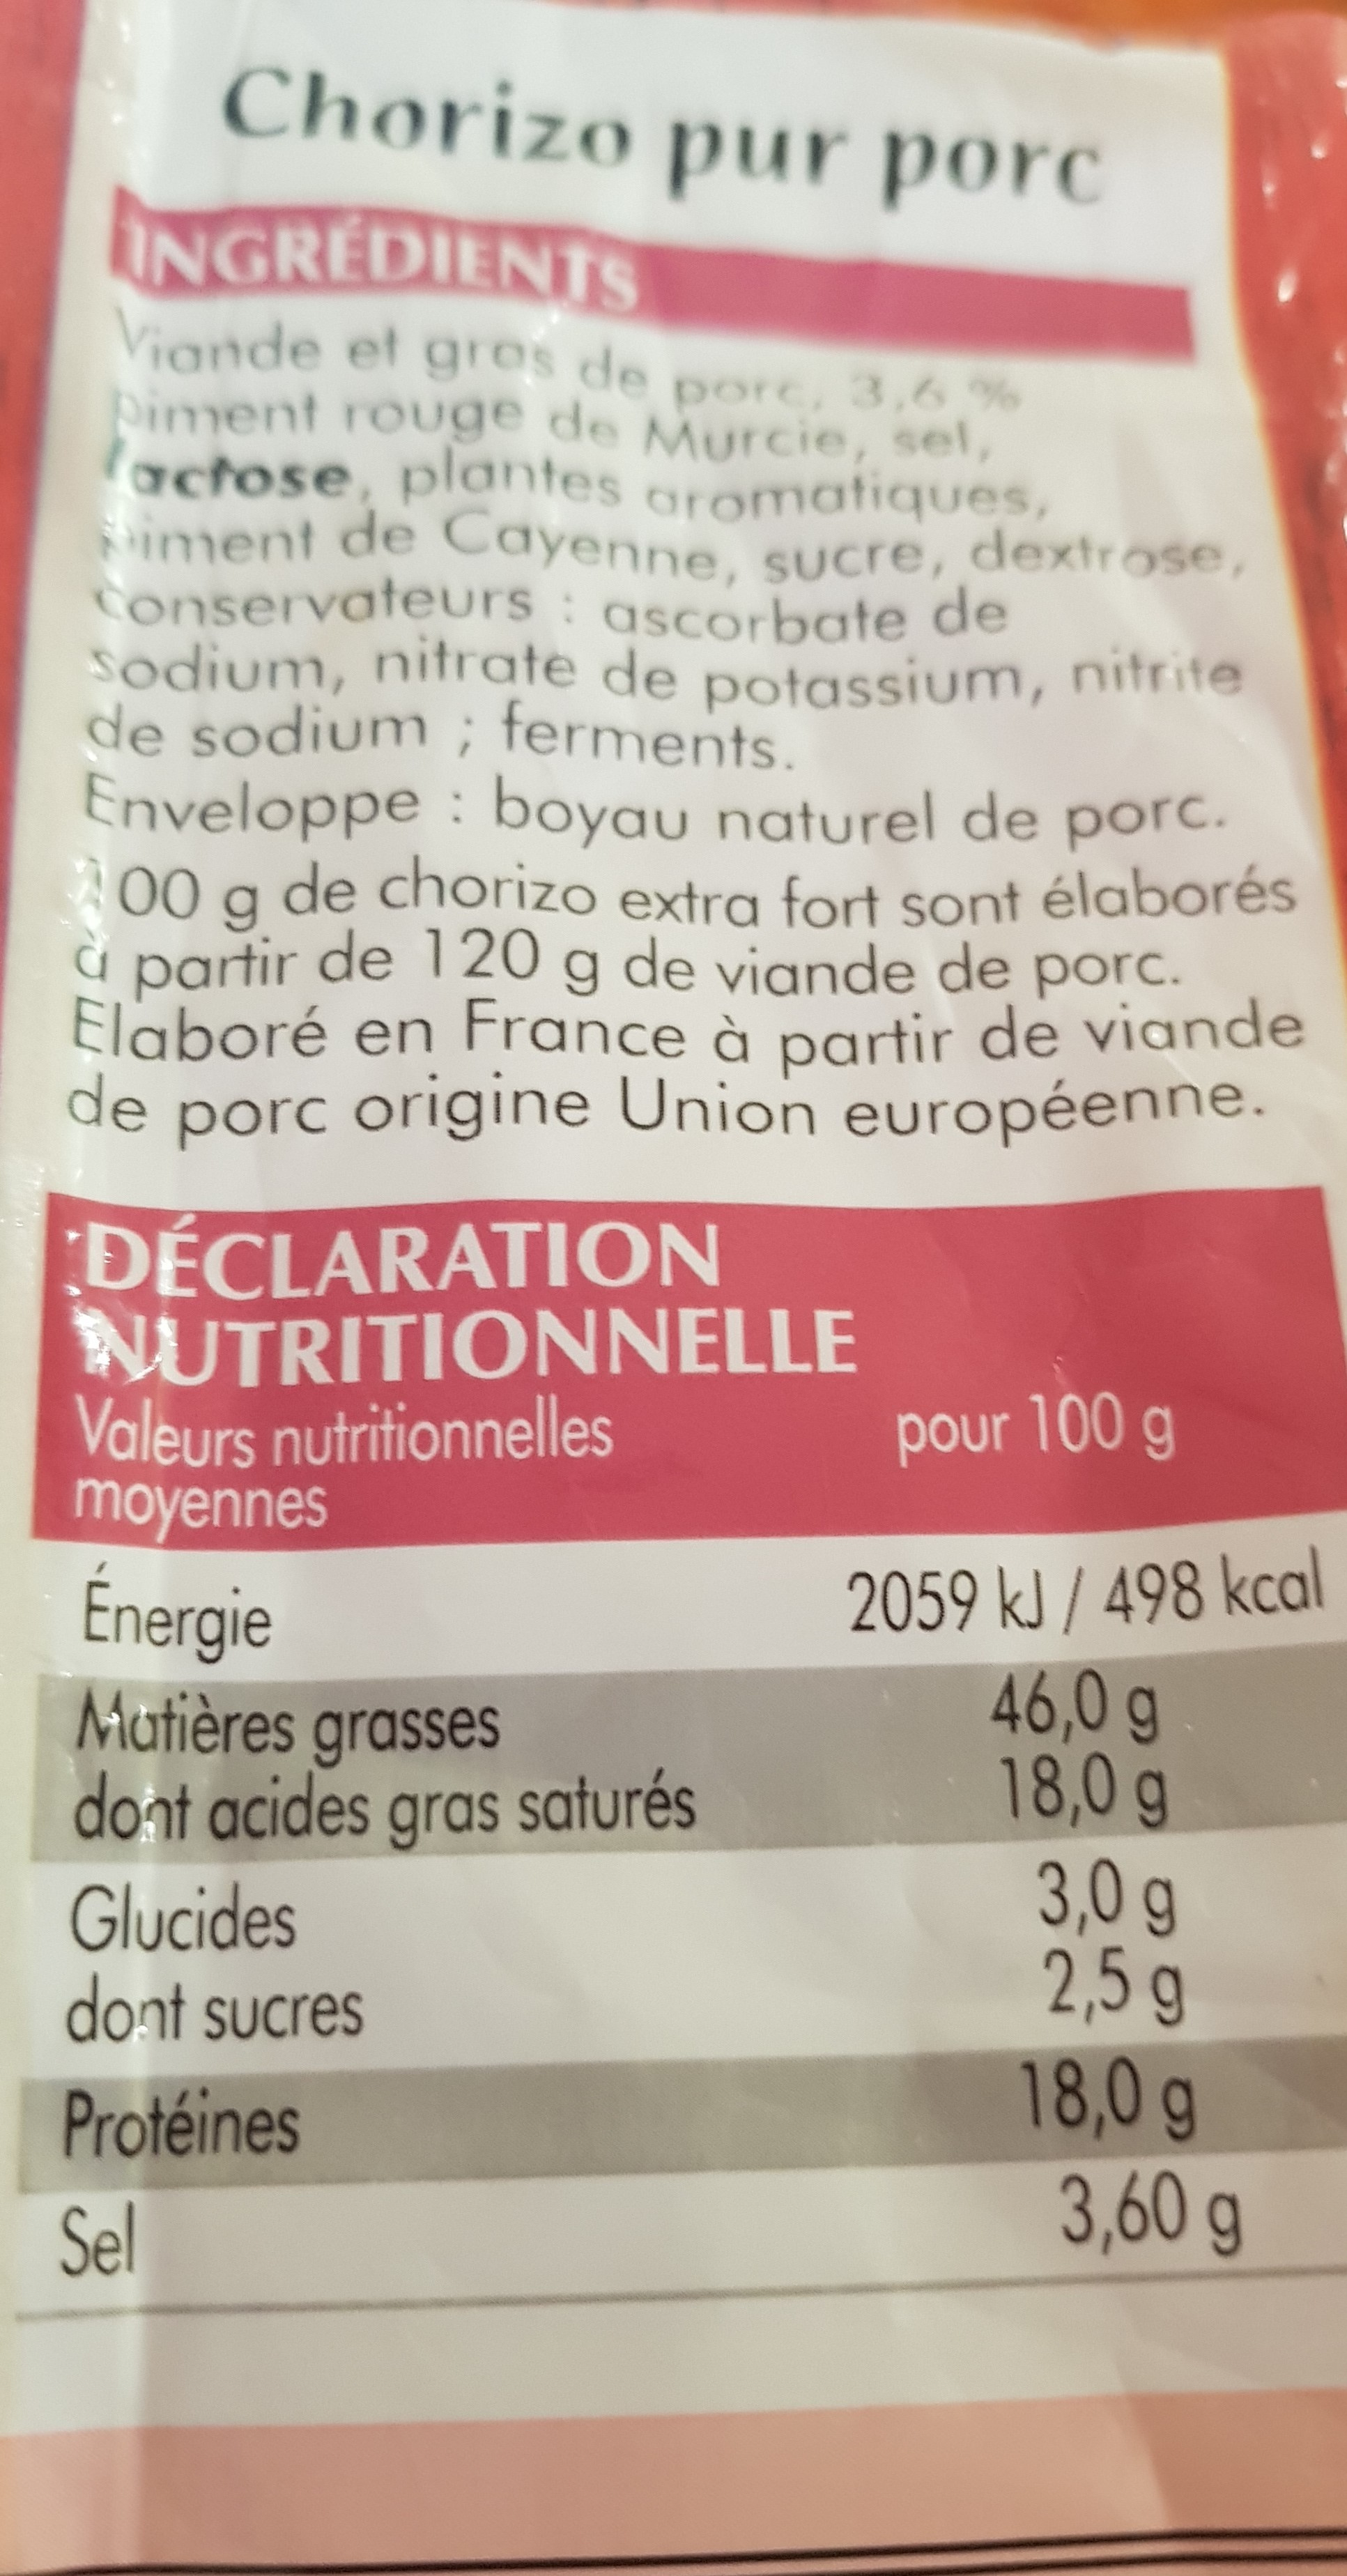column: (54, 1392, 702, 2278), (843, 1392, 1333, 2263)
table: (17, 1177, 1347, 2303)
